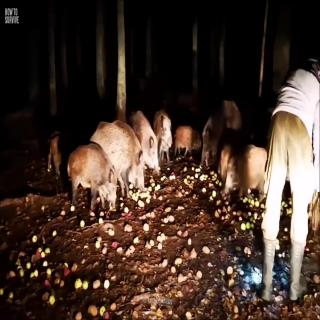Pig: (64, 138, 120, 224), (91, 114, 148, 192), (131, 102, 160, 181), (172, 123, 202, 162)
